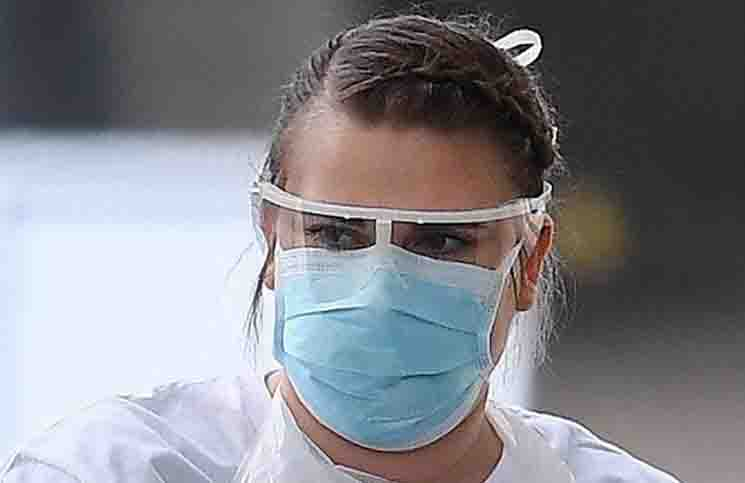barbijo: (250, 193, 548, 454)
